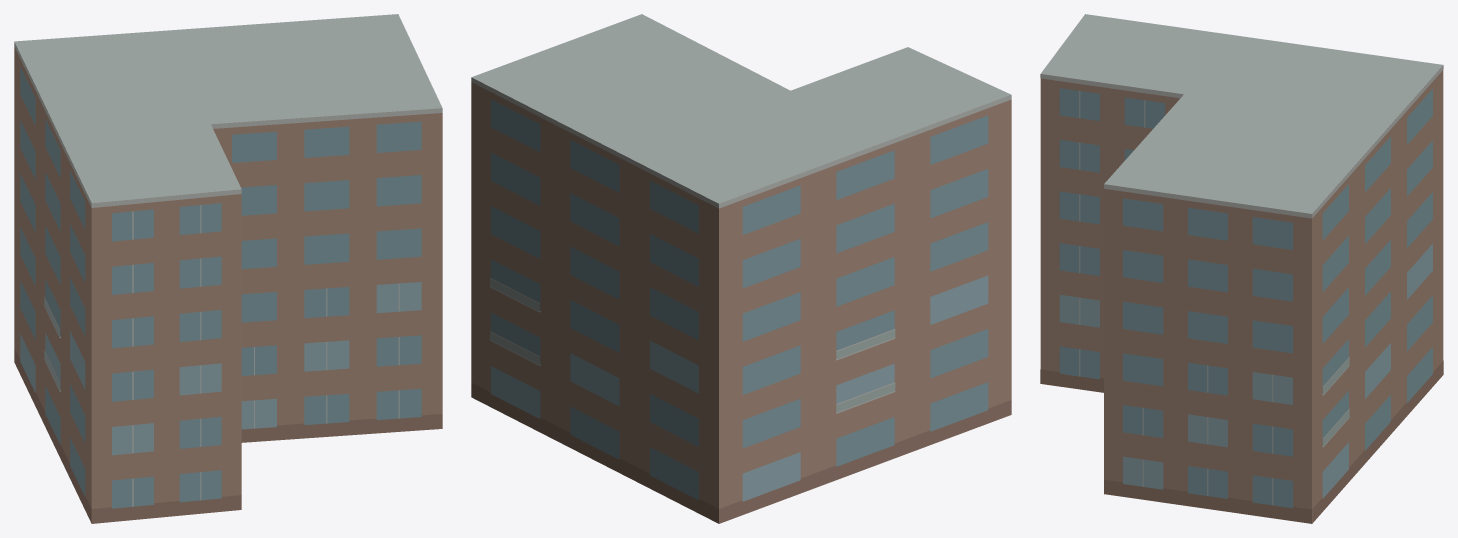
The model's file is survey-upis-32816871.glb.
3 renders of one model, left to right at view 1: azimuth 30°, elevation 25°; view 2: azimuth 150°, elevation 25°; view 3: azimuth 270°, elevation 25°, orthographic. The views are drawn at different scales.
Parts seen in each view (by area): view 1: survey-upis-32816871.tmp; view 2: survey-upis-32816871.tmp; view 3: survey-upis-32816871.tmp.
Boxes of the visible parts, <box> form: survey-upis-32816871.tmp: <box>14,14,442,523</box>; survey-upis-32816871.tmp: <box>471,14,1011,523</box>; survey-upis-32816871.tmp: <box>1040,14,1443,523</box>.
Bounding box in the file's own units: 22.98 × 16.6 × 19.57.
